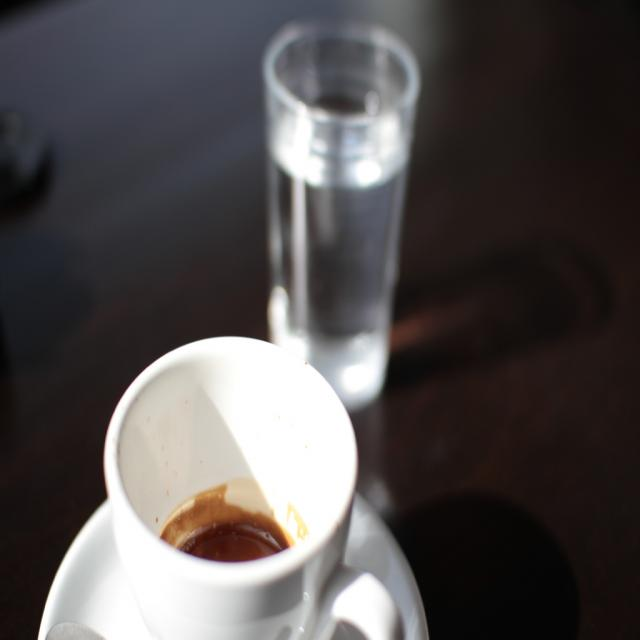Coffee: (184, 514, 282, 562)
Tea: (162, 488, 292, 564)
